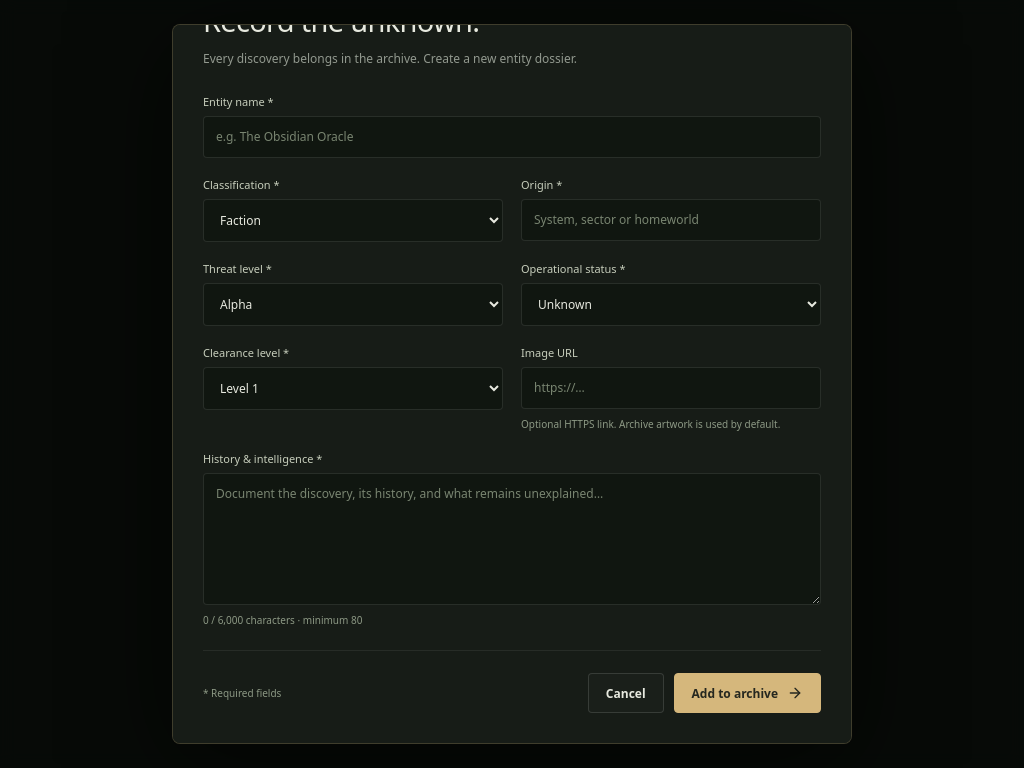
Test: controlled dossier form › shows field-level validation and does not submit invalid data
(page scrolled)
Click the button "Add to archive": x=747, y=693 x1=674 y1=673 x2=821 y2=713
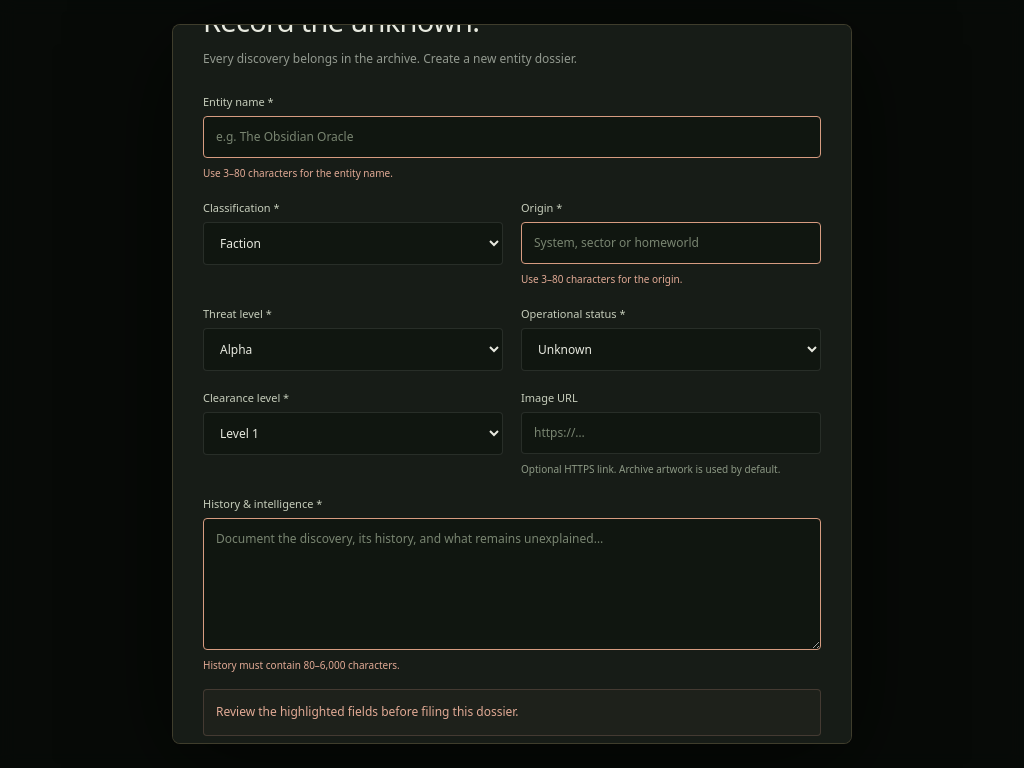
Now the message shows "highlighted fields", box x1=216 y1=703 x2=519 y2=720
